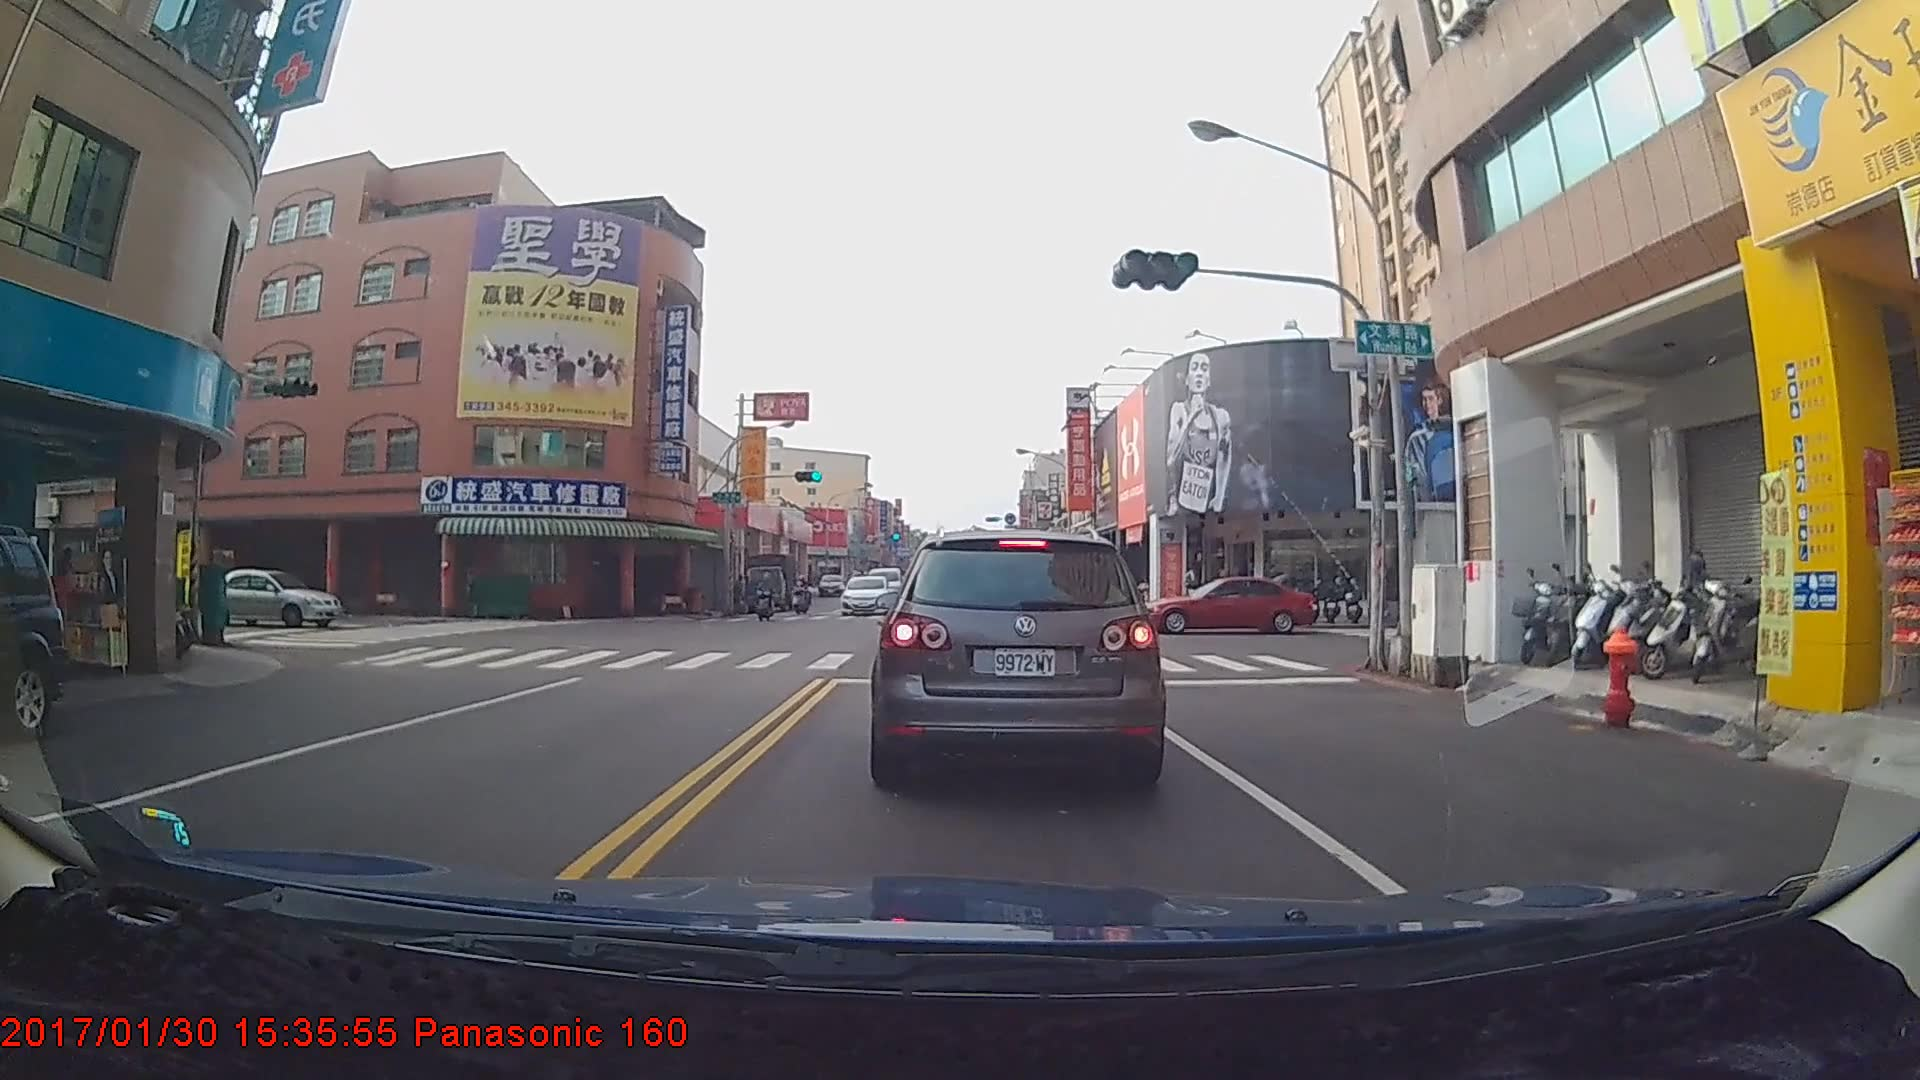rider: (747, 570, 784, 626), (788, 578, 816, 622)
vehicle: (875, 523, 1164, 788), (0, 529, 67, 736), (1142, 575, 1318, 635), (188, 565, 339, 627), (741, 551, 796, 611), (838, 573, 891, 616)
